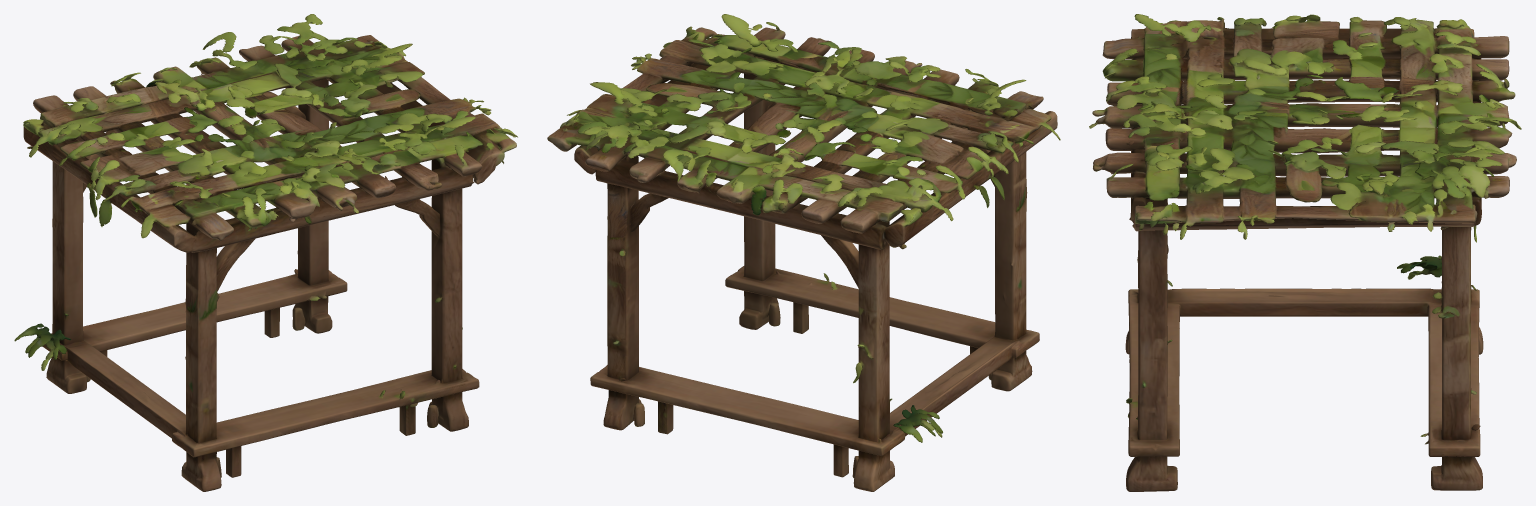
Rendered from prop-pergola.glb.
3 views of the same model, side by side, from view 1: azimuth 30°, elevation 25°; view 2: azimuth 150°, elevation 25°; view 3: azimuth 270°, elevation 25° (orthographic). The views are drawn at different scales.
Parts seen in each view (by area): view 1: tripo_node_90707163-1de6-49c0-9d44-e63a5888610b; view 2: tripo_node_90707163-1de6-49c0-9d44-e63a5888610b; view 3: tripo_node_90707163-1de6-49c0-9d44-e63a5888610b.
Part boxes in pixels (x1,y1,x2,y2): tripo_node_90707163-1de6-49c0-9d44-e63a5888610b: [14, 14, 517, 491]; tripo_node_90707163-1de6-49c0-9d44-e63a5888610b: [547, 14, 1060, 491]; tripo_node_90707163-1de6-49c0-9d44-e63a5888610b: [1089, 14, 1521, 491].
Size of the model in its own units: 4.13 by 3 by 3.5.
Materials: 1 (1 with a texture image).
